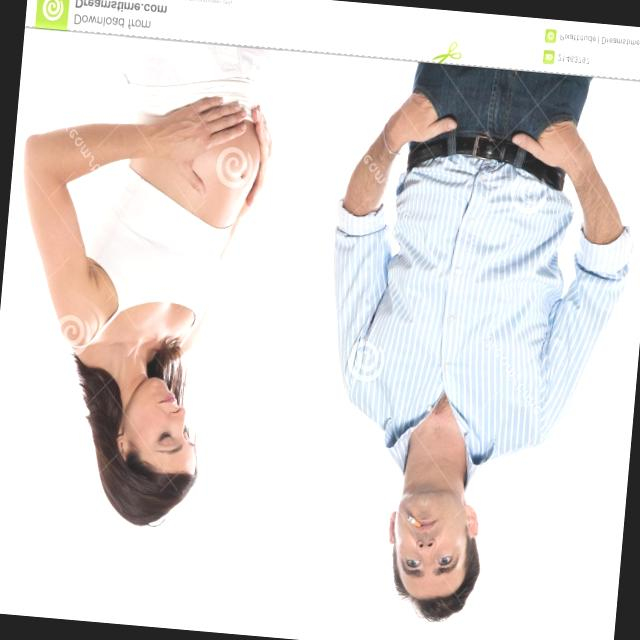cigarette: (402, 508, 426, 536)
